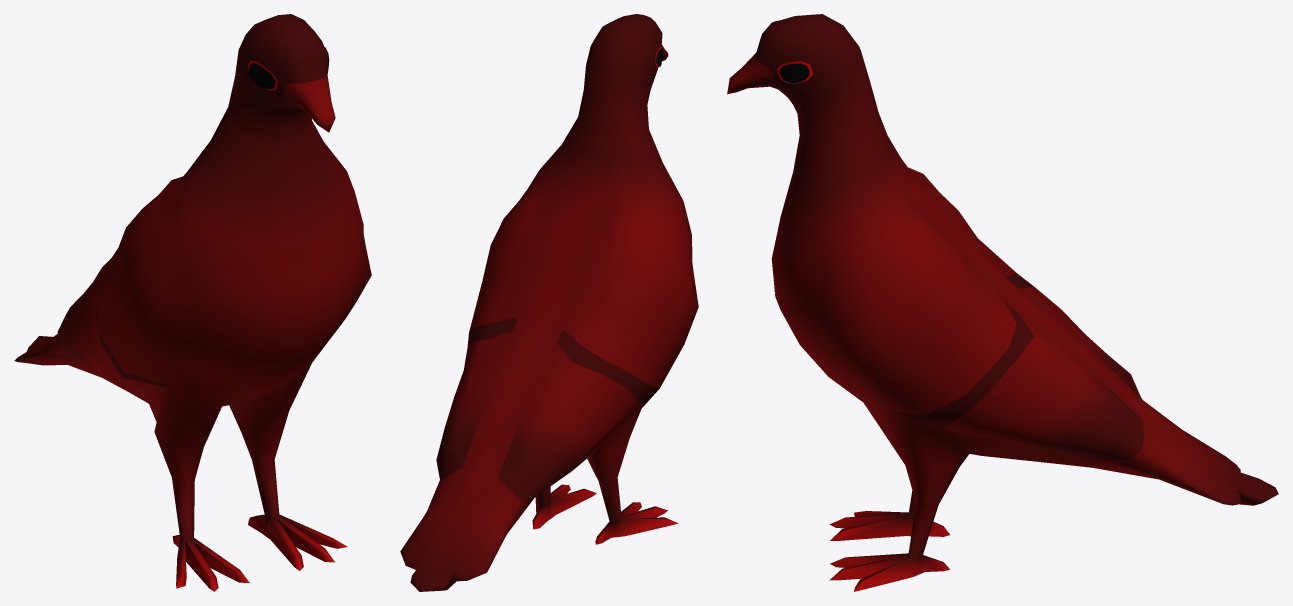
The model's file is BirdsUpright_GroundedPigeon.fbx.
The picture shows the model from 3 angles, left to right: view 1: azimuth 30°, elevation 25°; view 2: azimuth 150°, elevation 25°; view 3: azimuth 270°, elevation 25°; orthographic projection. The views are drawn at different scales.
Parts seen in each view (by area): view 1: base; view 2: base; view 3: base.
Part boxes in pixels (box(x1,y1,x2,y2)): base: box(14, 14, 371, 591); base: box(400, 14, 698, 591); base: box(727, 14, 1278, 591).
Bounding box in the file's own units: 9.17 × 21.68 × 20.31.
